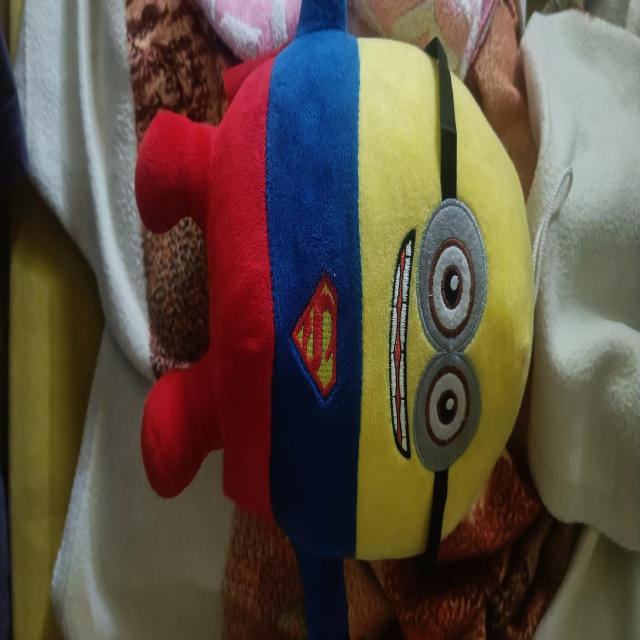minion: (137, 0, 539, 640)
